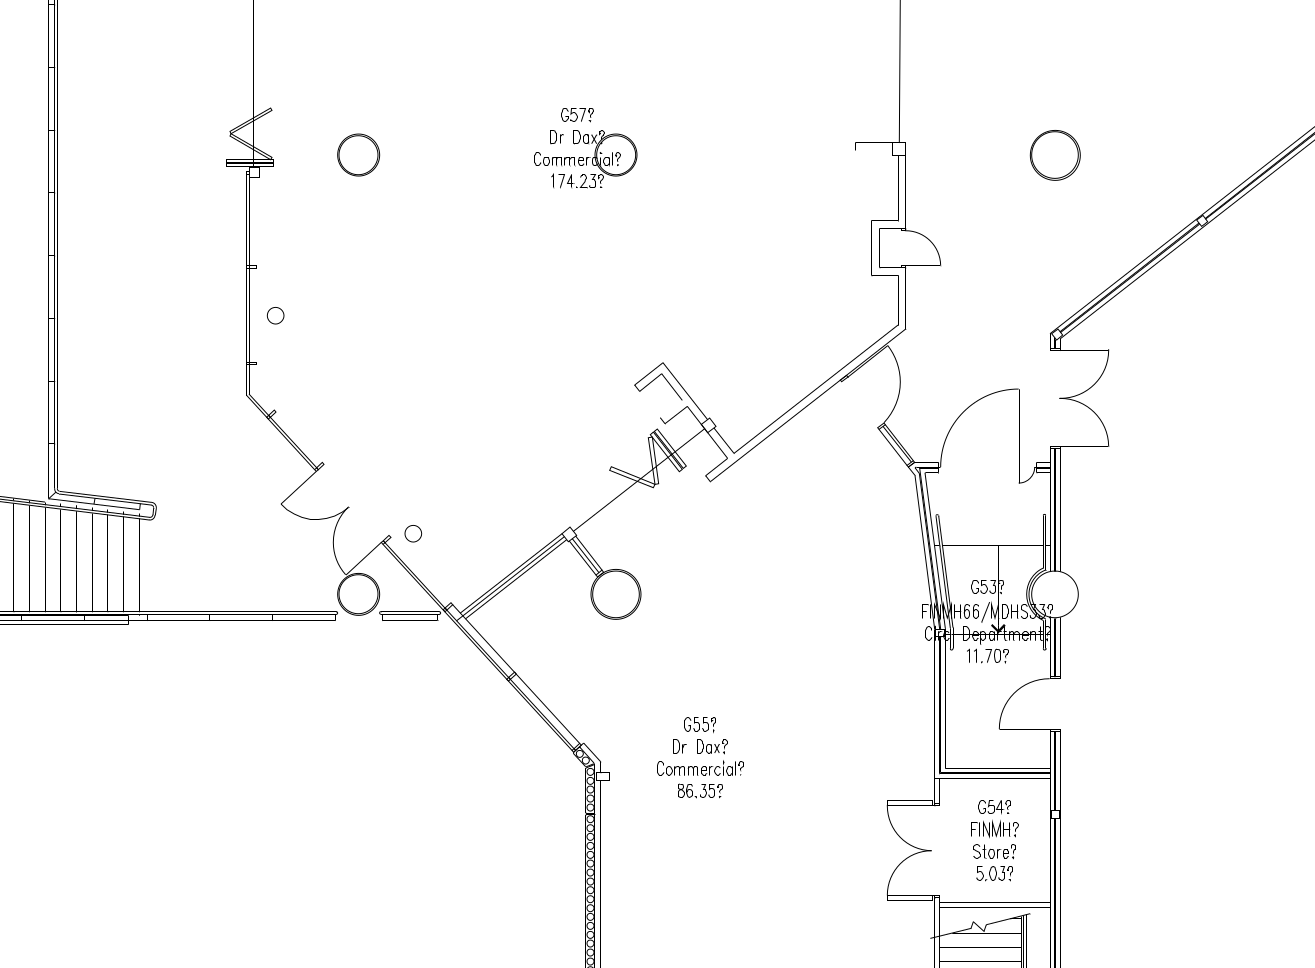door: (929, 377, 1030, 475), (835, 340, 909, 431), (279, 459, 354, 533), (318, 502, 393, 576), (1048, 398, 1121, 454), (904, 223, 977, 279), (1048, 343, 1120, 399), (985, 674, 1052, 734), (878, 798, 942, 848), (873, 849, 937, 897)
